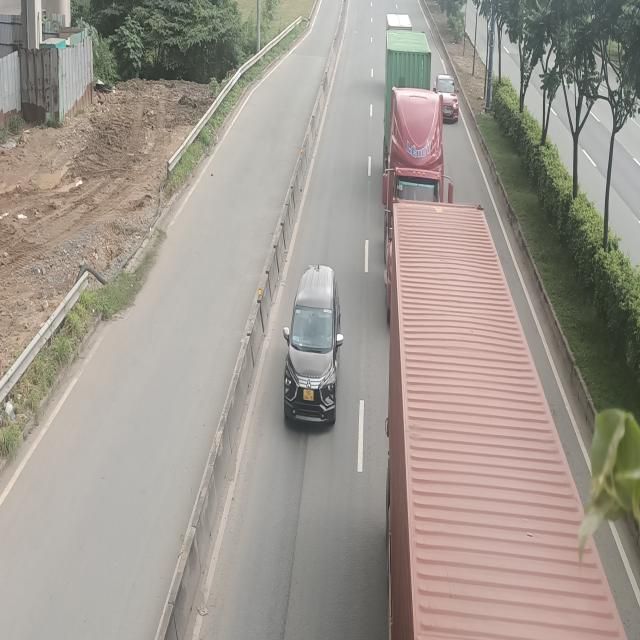car: (284, 265, 344, 427), (434, 74, 458, 122)
container: (388, 198, 626, 640), (382, 29, 453, 313)
